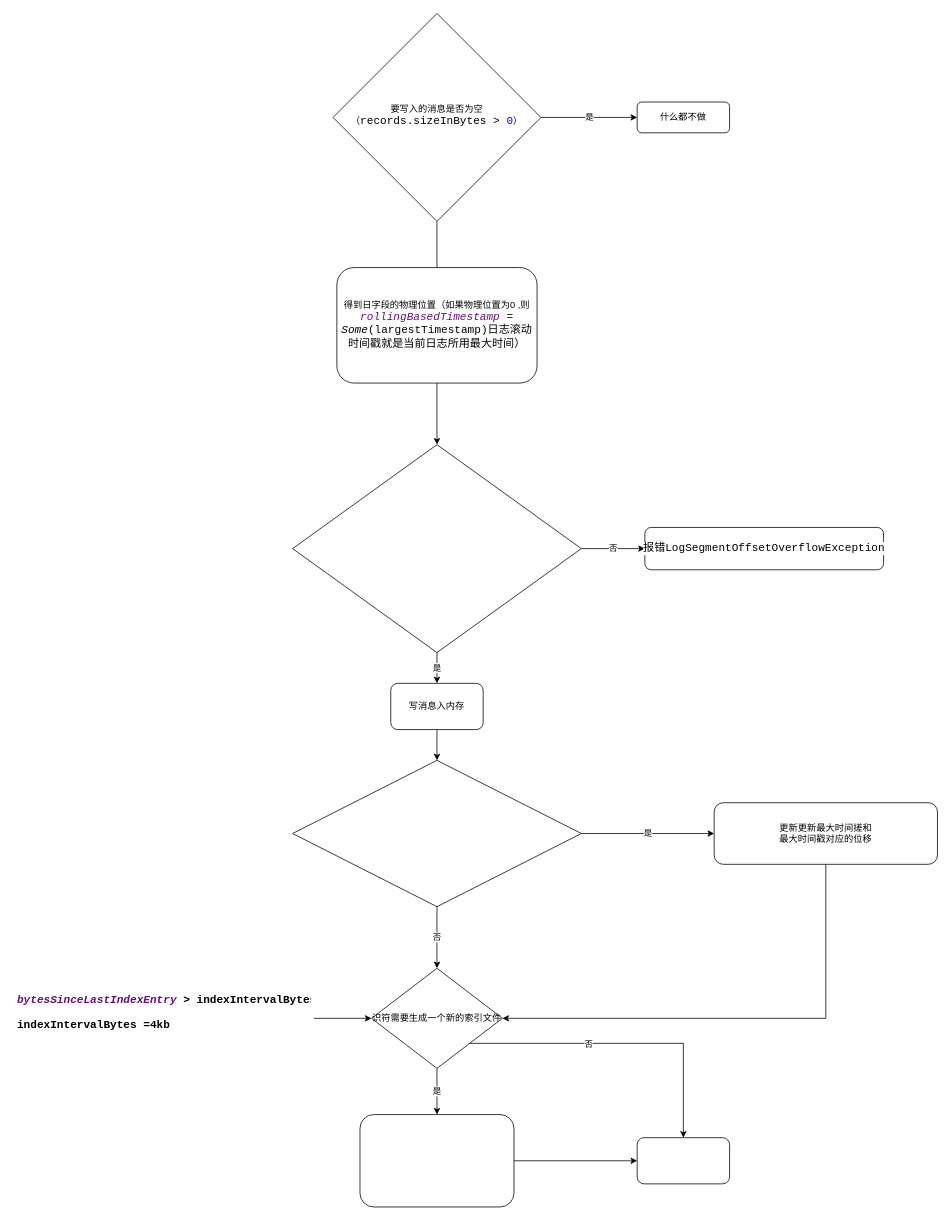
Image size: 951x1220. Some labels were removed from this diagram. Each missing label, with the centre of its shape:
"校验 0<largestOffset-baseoffset<INt.maxValue" goes at (x=436, y=548).
"此次append日志最大时间搓是否大于内存中的 largestTimestamp > maxTimestampSoFar" goes at (x=436, y=833).
"结束" goes at (x=683, y=1160).
"记录 最大位移值和物理位置信息 记录 最大时间戳和最大时间戳对应的位移 bytesSinceLastIndexEntry=0" goes at (x=436, y=1160).
